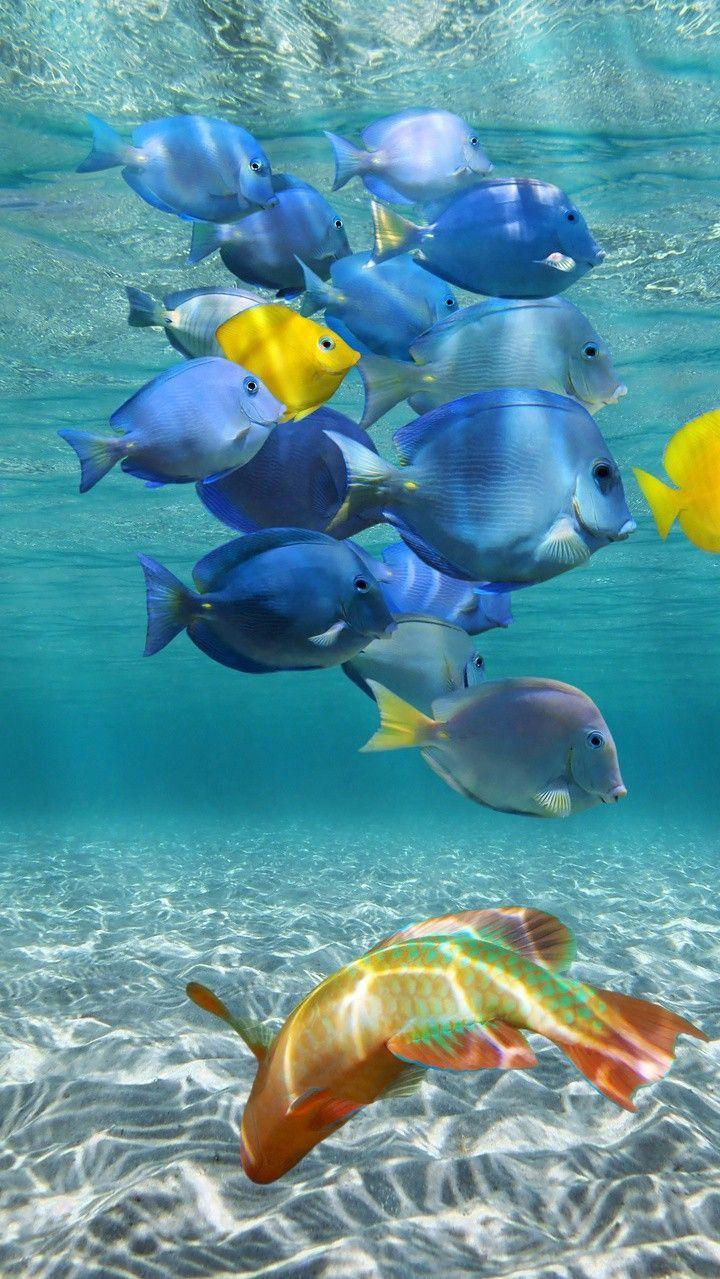fish: (187, 903, 707, 1185), (322, 388, 638, 593), (326, 299, 628, 429), (361, 674, 626, 815), (140, 529, 397, 672), (56, 360, 289, 496), (371, 179, 606, 300), (76, 112, 278, 221), (191, 175, 356, 295), (324, 110, 500, 219), (291, 254, 460, 362), (217, 303, 362, 425), (634, 407, 720, 554), (126, 284, 266, 358), (338, 618, 487, 684)
